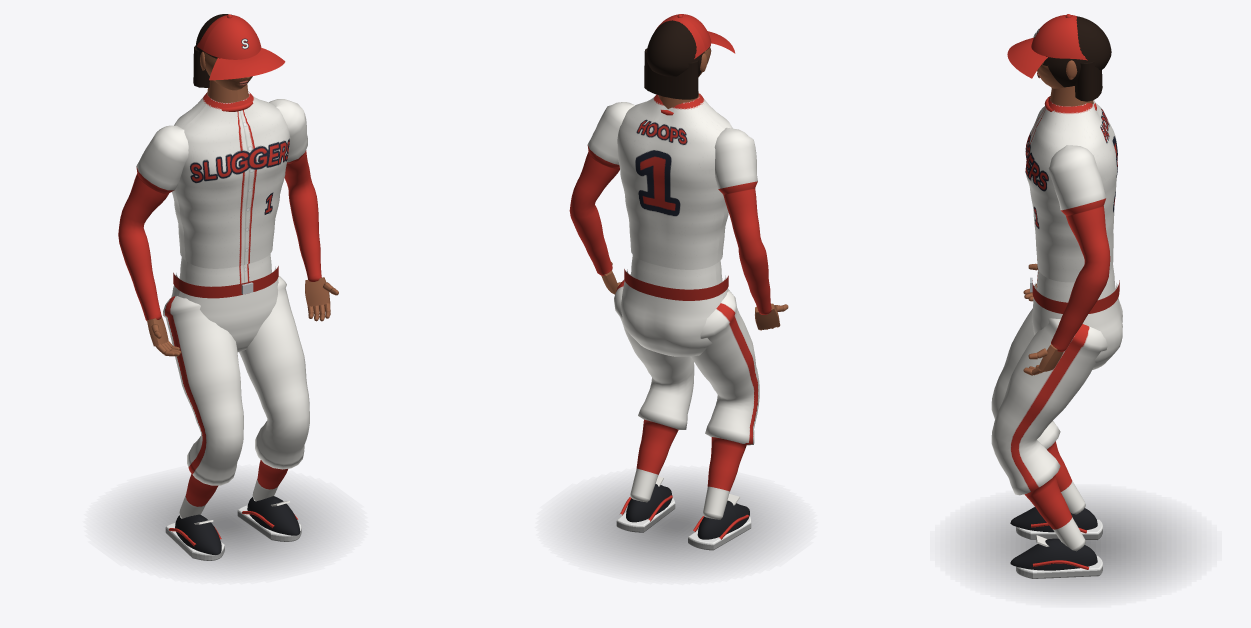
File: player_00_home.glb
3 renders of one model, left to right at view 1: azimuth 30°, elevation 25°; view 2: azimuth 150°, elevation 25°; view 3: azimuth 270°, elevation 25°, orthographic. The views are drawn at different scales.
Parts seen in each view (by area): view 1: player_00_home, object 31, object 33, object 2; view 2: player_00_home, object 29, object 30, object 31; view 3: player_00_home, object 31, object 29, object 33, object 35, object 30, object 2.
Boxes of the visible parts, x1=… form: player_00_home: x1=116, y1=92, x2=334, y2=570; object 31: x1=197, y1=15, x2=261, y2=59; object 33: x1=209, y1=47, x2=285, y2=80; object 2: x1=207, y1=80, x2=248, y2=102; player_00_home: x1=568, y1=94, x2=784, y2=570; object 29: x1=646, y1=20, x2=710, y2=76; object 30: x1=644, y1=48, x2=698, y2=99; object 31: x1=654, y1=14, x2=711, y2=58; player_00_home: x1=965, y1=96, x2=1186, y2=592; object 31: x1=1031, y1=14, x2=1087, y2=60; object 29: x1=1046, y1=16, x2=1111, y2=70; object 33: x1=1007, y1=37, x2=1047, y2=78; object 35: x1=1037, y1=58, x2=1099, y2=88; object 30: x1=1075, y1=61, x2=1102, y2=101; object 2: x1=1050, y1=86, x2=1093, y2=106.
Bounding box in the file's own units: 3.13 × 5.8 × 3.13.
27 materials, 5 textured.
